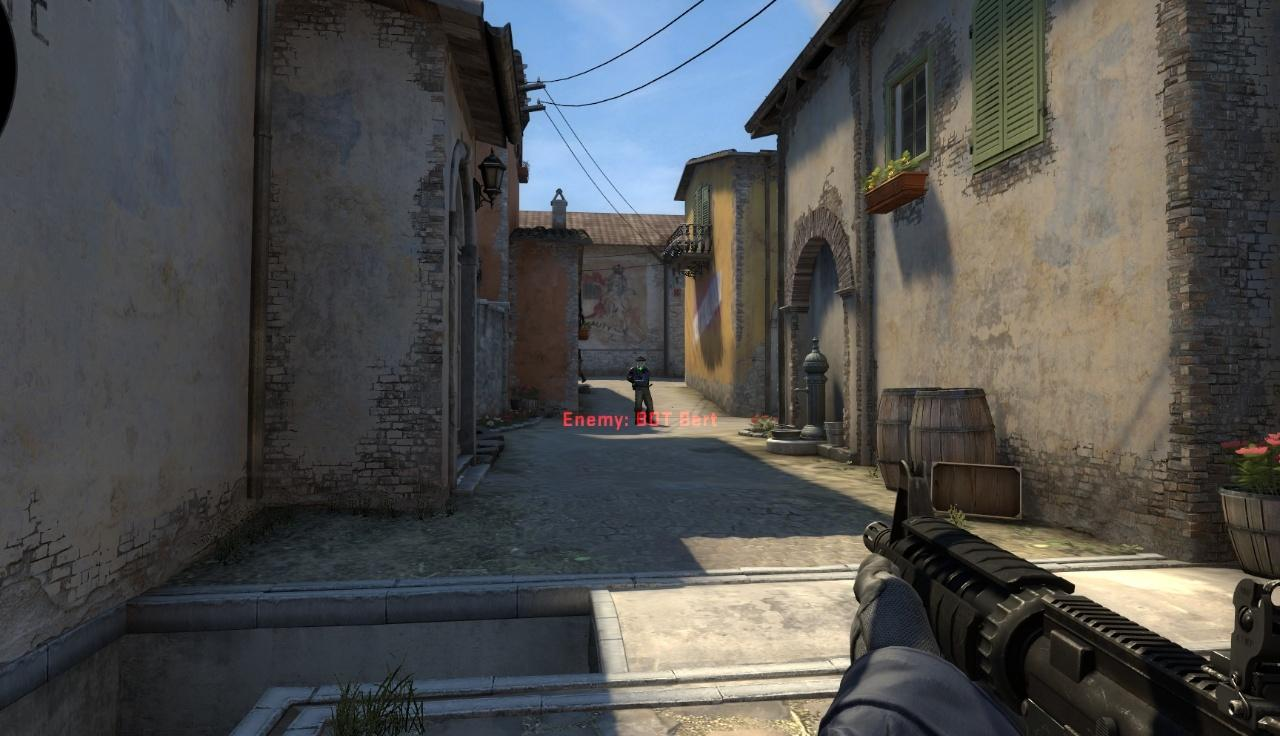rifle: (845, 475, 1280, 733)
tt: (627, 355, 654, 424), (577, 346, 586, 383)
tthead: (636, 356, 646, 370)
